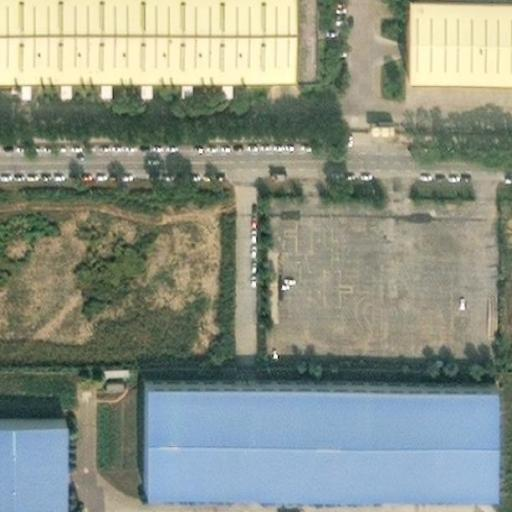building: (137, 369, 486, 478), (394, 0, 512, 56), (228, 177, 255, 351)
